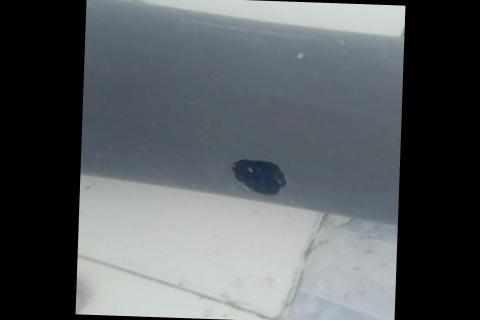kebocoran: (228, 156, 291, 198)
